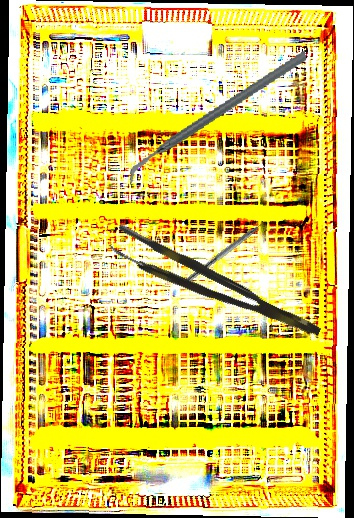Chopper: (112, 49, 323, 186), (183, 214, 277, 290)
Tissue Forceps: (105, 222, 324, 355)
